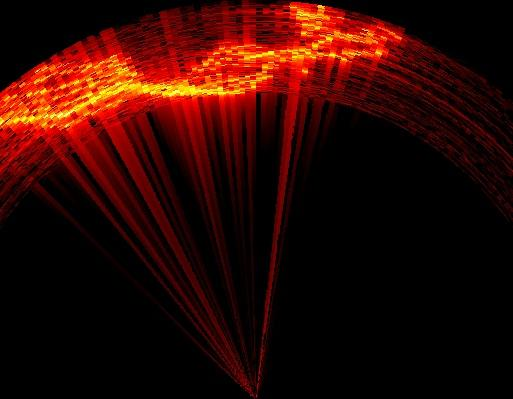shipwreck: (1, 7, 387, 126)
